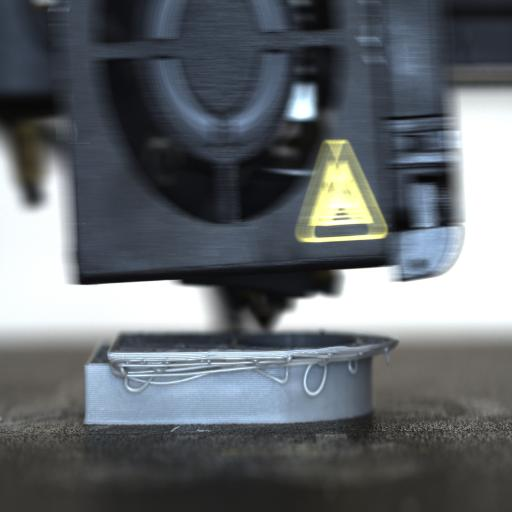layer_shift: (80, 338, 398, 382)
